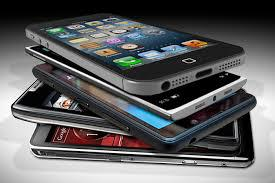Smartphone: (26, 66, 262, 146), (33, 96, 252, 159), (28, 22, 221, 82)
